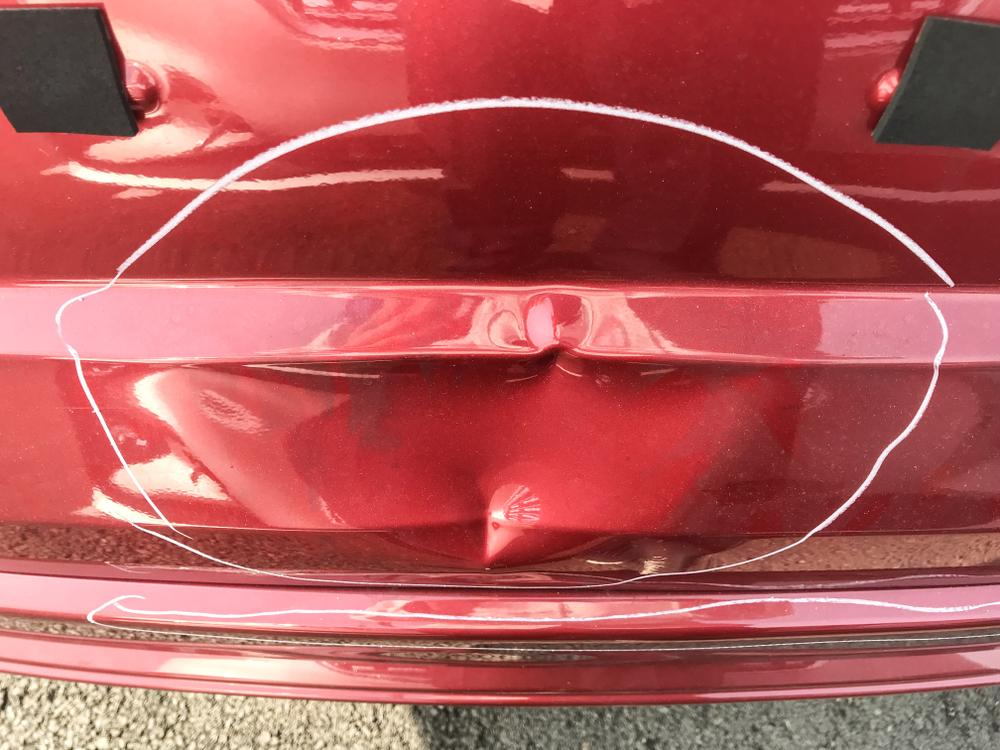dent: (144, 344, 747, 567), (524, 291, 594, 349)
